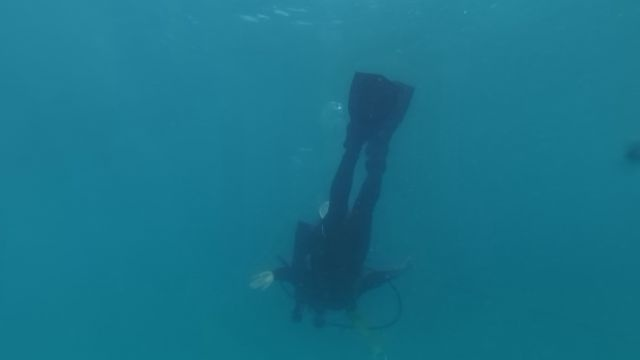Diver: (248, 62, 423, 333)
Hand: (241, 265, 283, 301)
